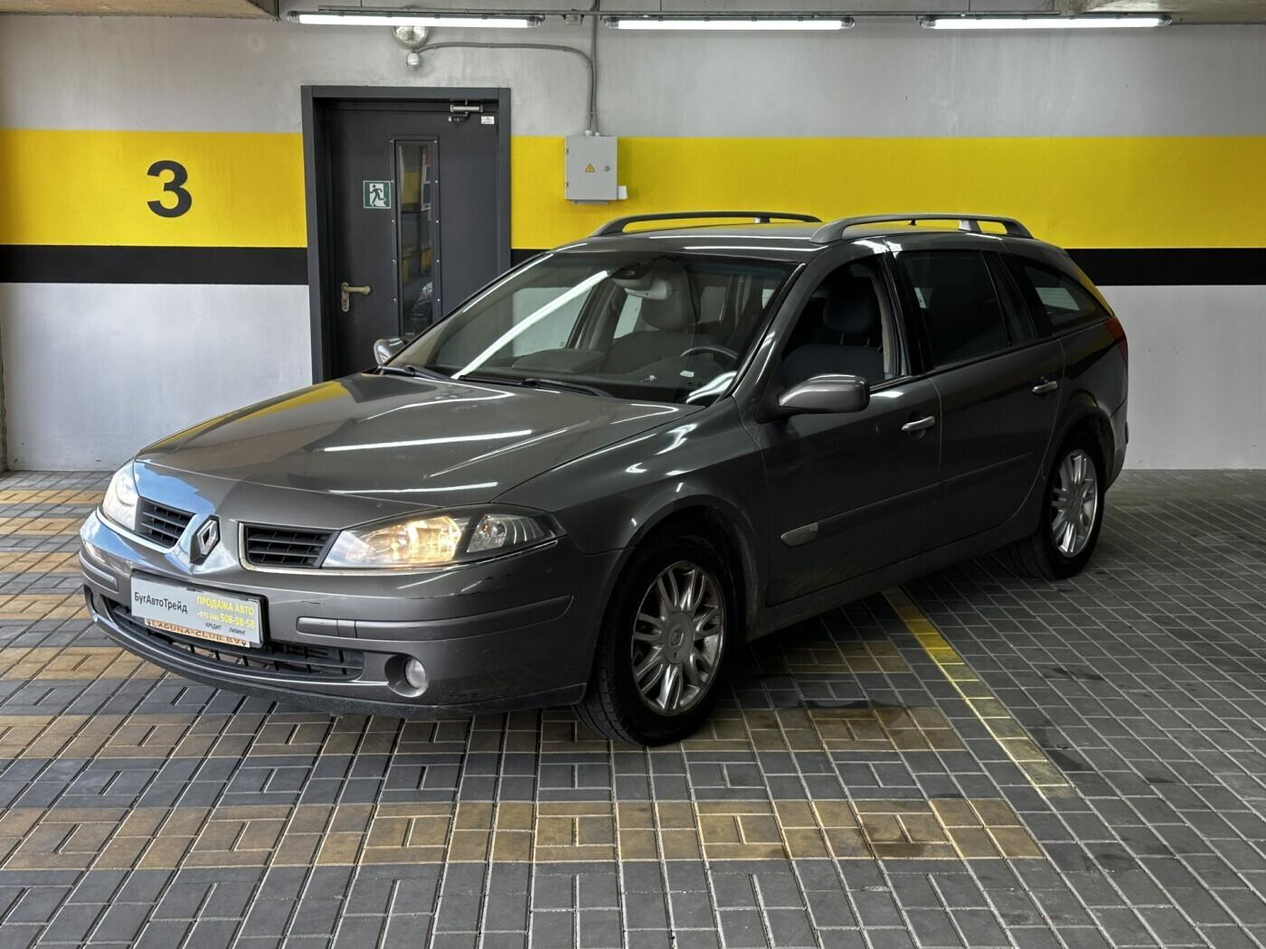Laguna_2005-2007: (71, 208, 1132, 745)
